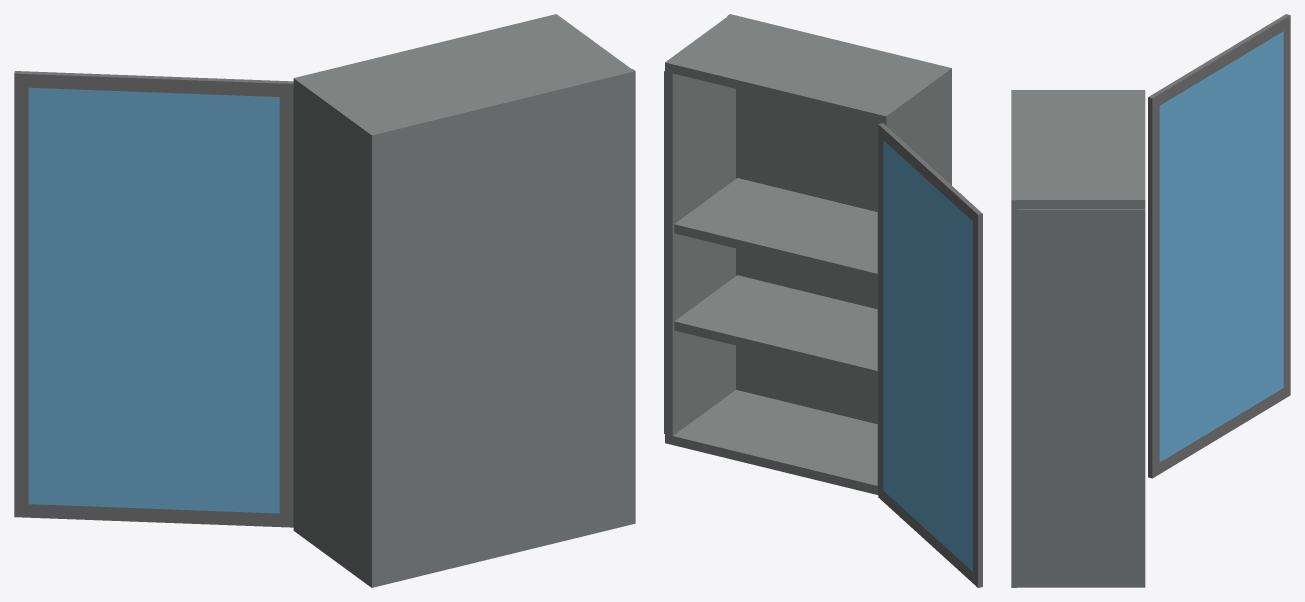
Rendered from Freezer.fbx.
The picture shows the model from 3 angles, left to right: view 1: azimuth 30°, elevation 25°; view 2: azimuth 150°, elevation 25°; view 3: azimuth 270°, elevation 25°; orthographic projection. The views are drawn at different scales.
Visible parts, largest first — view 1: Cube.003, Cube.007; view 2: Cube.003, Cube.007; view 3: Cube.003, Cube.007.
Boxes of the visible parts, <box> form: Cube.003: <box>293,14,635,587</box>; Cube.007: <box>14,71,293,527</box>; Cube.003: <box>664,14,951,494</box>; Cube.007: <box>878,123,982,587</box>; Cube.003: <box>1011,90,1145,587</box>; Cube.007: <box>1148,14,1290,478</box>.
Bounding box in the file's own units: 2.24 × 2.1 × 1.37.
